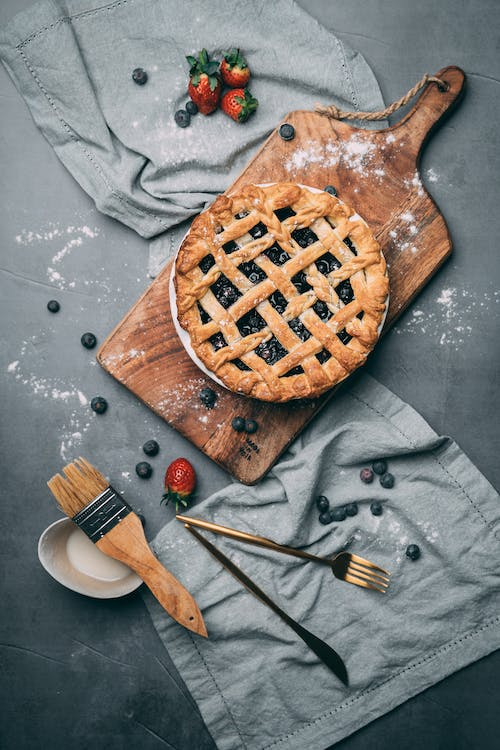knife: (181, 522, 351, 690)
